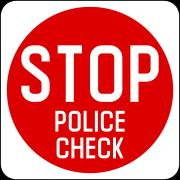Stop: (19, 9, 166, 174)
